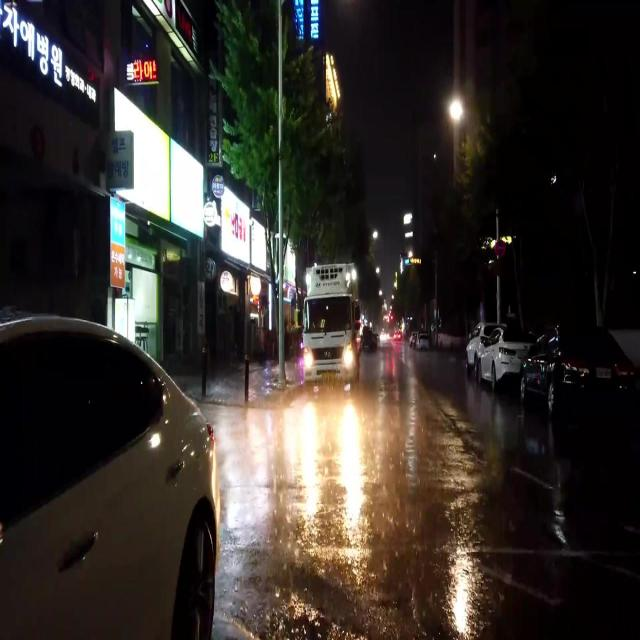Car: (517, 326, 637, 427), (476, 314, 523, 396)
